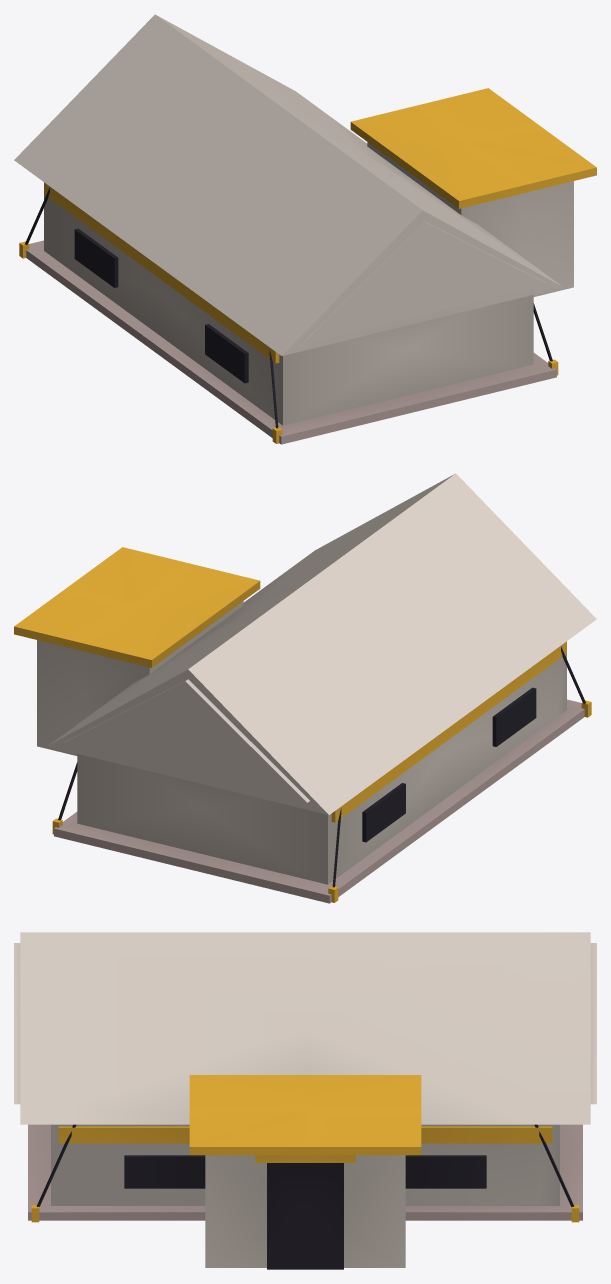
The picture shows the model from 3 angles, top to bottom: view 1: azimuth 30°, elevation 25°; view 2: azimuth 150°, elevation 25°; view 3: azimuth 270°, elevation 25°; orthographic projection. The views are drawn at different scales.
Parts seen in each view (by area): view 1: body_pal_picketWhite, body_pal_schoolBusYellow, body_pal_sidewalk, body_pal_uiDark; view 2: body_pal_picketWhite, body_pal_schoolBusYellow, body_pal_sidewalk, body_pal_uiDark; view 3: body_pal_picketWhite, body_pal_schoolBusYellow, body_pal_uiDark, body_pal_sidewalk.
Boxes of the visible parts, x1,y1,x2,y2 form: body_pal_picketWhite: (14, 14, 573, 425); body_pal_schoolBusYellow: (19, 88, 596, 443); body_pal_sidewalk: (26, 240, 556, 444); body_pal_uiDark: (25, 187, 552, 428); body_pal_picketWhite: (37, 473, 596, 884); body_pal_schoolBusYellow: (14, 547, 591, 902); body_pal_sidewalk: (54, 699, 584, 903); body_pal_uiDark: (58, 646, 585, 887); body_pal_picketWhite: (14, 932, 596, 1267); body_pal_schoolBusYellow: (31, 1075, 579, 1222); body_pal_uiDark: (37, 1124, 573, 1269); body_pal_sidewalk: (28, 1124, 582, 1220).
Bounding box in the file's own units: 6.3 × 3.1 × 7.56.
